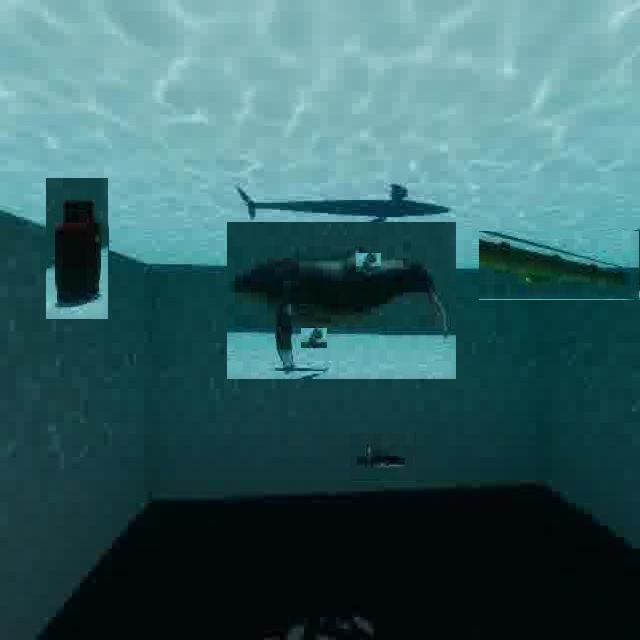Cylinder: (46, 178, 109, 320)
Pipe: (479, 231, 640, 300)
Shell: (356, 253, 382, 273)
Whale: (227, 222, 457, 380), (350, 432, 416, 482)
